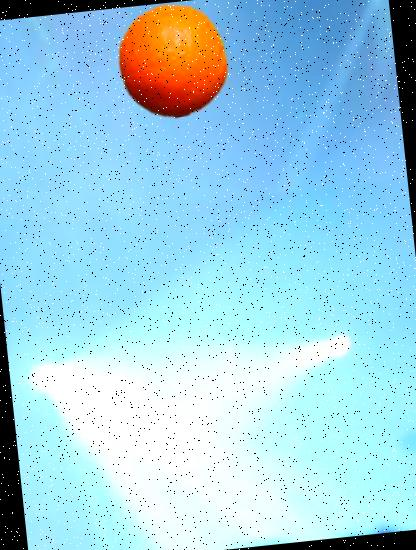Orange: (110, 0, 235, 124)
